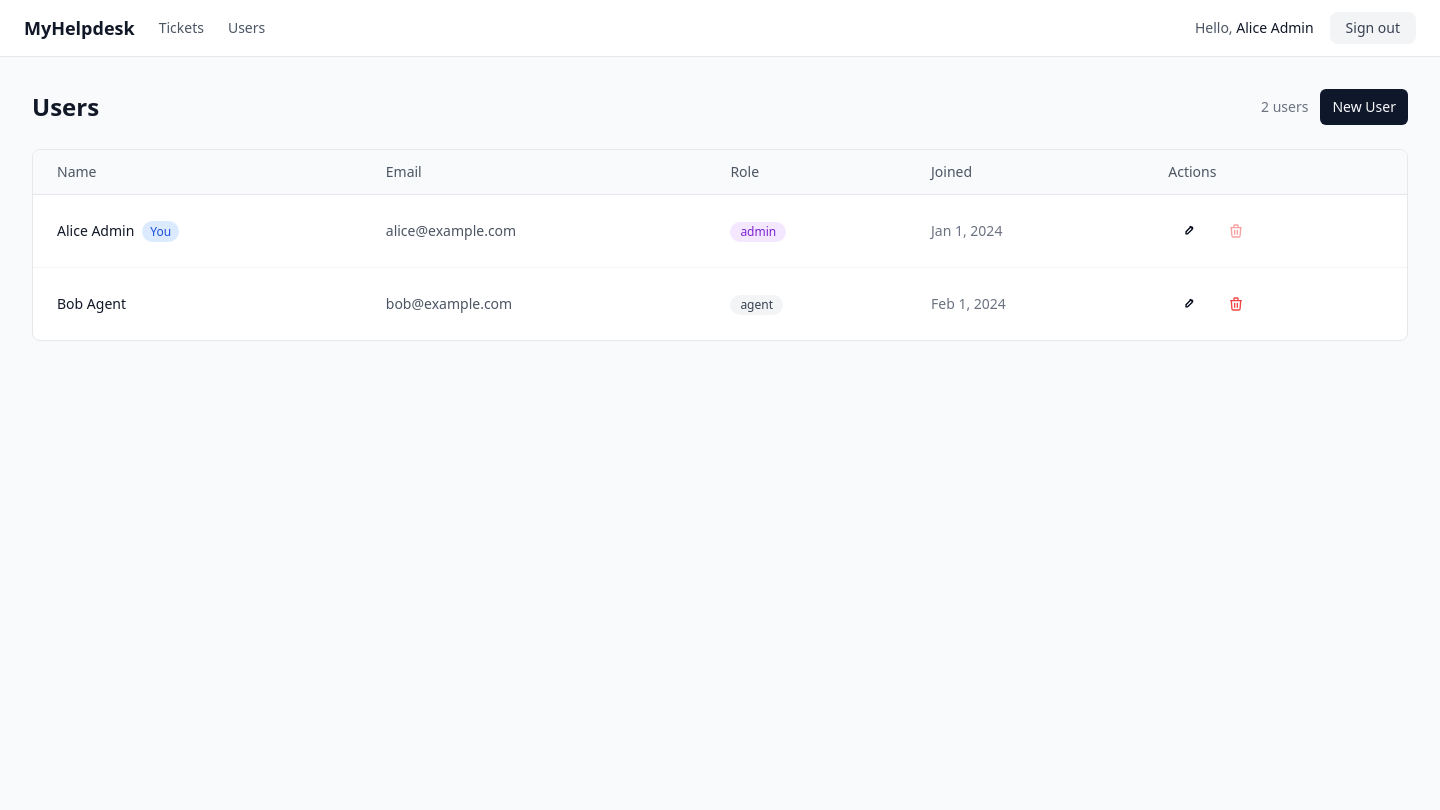
Test case: UsersPage › create user modal › shows the modal when New User button is clicked
expect the text "Bob Agent" is shown: met, box [33,268,362,340]
Click the button "New User". click: (1364,107)
box: [1320,89,1408,125]
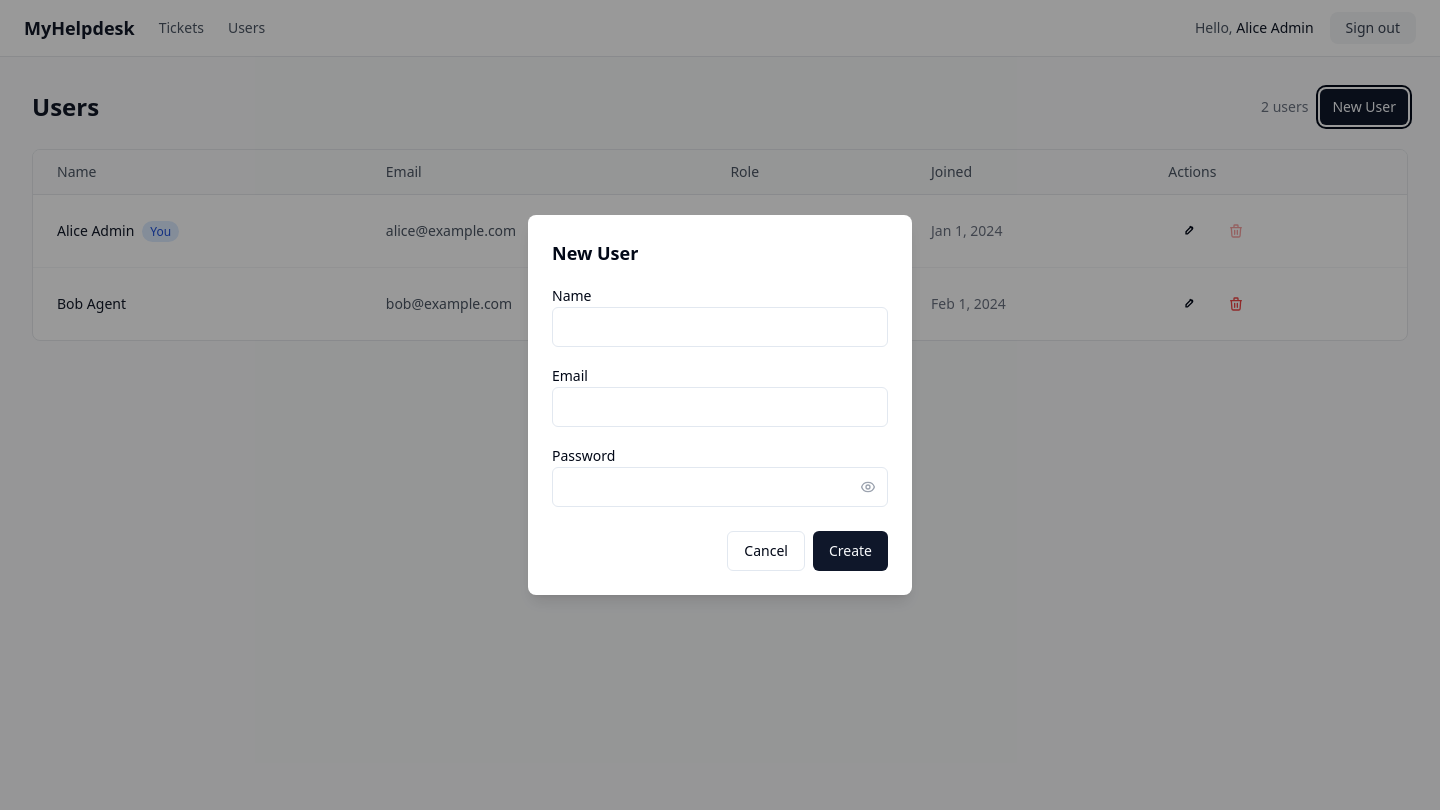
expect the heading "New User" is shown: met, box [552,241,638,265]
expect the field labelled "Name" is shown: met, box [552,307,888,347]
expect the password field labelled "Password" is shown: met, box [552,467,888,507]
